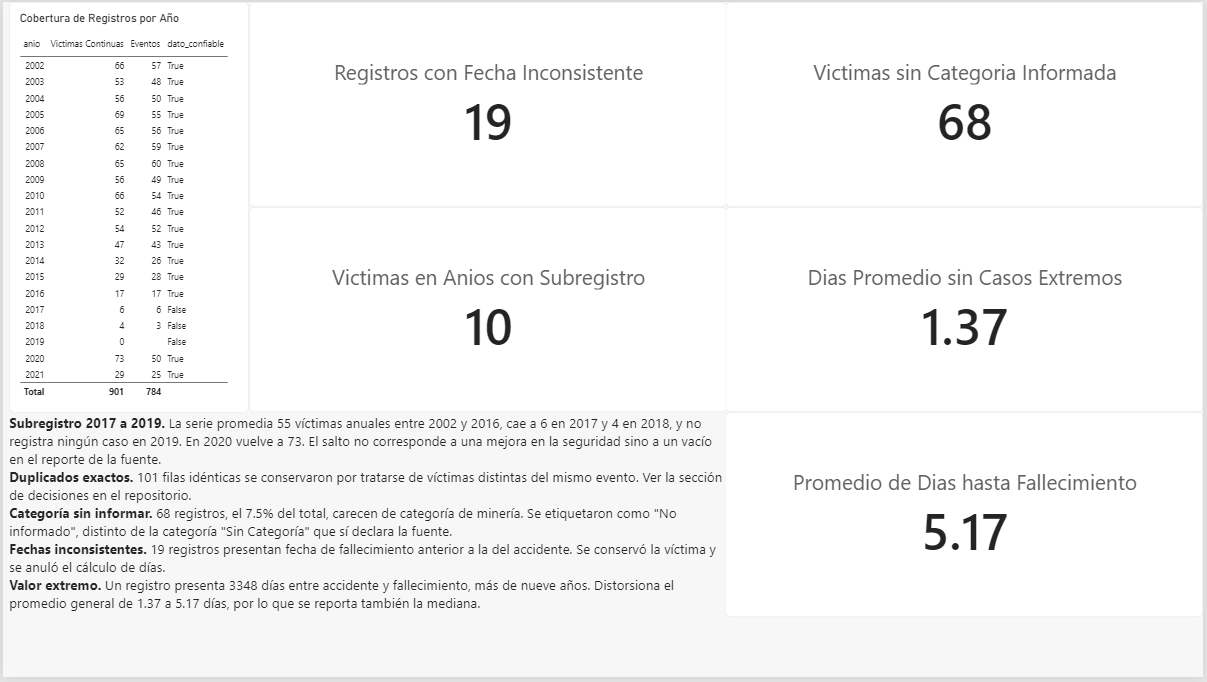

The page's visual inventory and layout, read from the dashboard file:
{"tool":"powerbi","page":{"name":"Calidad del Dato","canvas":[1920,1080],"ordinal":3},"visuals":[{"type":"tableEx","title":"Cobertura de Registros por Año","fields":{"Values":["dim_tiempo.anio","fact_accidente.Victimas Continuas","fact_accidente.Eventos","dim_tiempo.dato_confiable"]},"box":[10,0,383.3,656.7],"z":0},{"type":"cardVisual","fields":{"Data":["fact_accidente.Registros con Fecha Inconsistente"]},"box":[394,0,764,328],"z":1000},{"type":"cardVisual","fields":{"Data":["fact_accidente.Victimas en Anios con Subregistro"]},"box":[394,328,764,328],"z":2000},{"type":"cardVisual","fields":{"Data":["fact_accidente.Victimas sin Categoria Informada"]},"box":[1156,0,764,328],"z":3000},{"type":"cardVisual","fields":{"Data":["fact_accidente.Dias Promedio sin Casos Extremos"]},"box":[1156,328,764,328],"z":4000},{"type":"cardVisual","fields":{"Data":["Avg(fact_accidente.dias_hasta_fallecimiento)"]},"box":[1156,656,764,328],"z":5000},{"type":"textbox","box":[10,658,1146,326],"z":6000}]}

Visuals, with their boxes in screenshot pixels (x1, y1, x2, y2), scaled from the page's 1920x1080 canvas onto the 1207x682 screenshot:
"Cobertura de Registros por Año" tableEx: l=6, t=0, r=247, b=415
cardVisual - fact_accidente.Registros con Fecha Inconsistente: l=248, t=0, r=728, b=207
cardVisual - fact_accidente.Victimas en Anios con Subregistro: l=248, t=207, r=728, b=414
cardVisual - fact_accidente.Victimas sin Categoria Informada: l=727, t=0, r=1206, b=207
cardVisual - fact_accidente.Dias Promedio sin Casos Extremos: l=727, t=207, r=1206, b=414
cardVisual - Avg(fact_accidente.dias_hasta_fallecimiento): l=727, t=414, r=1206, b=621
textbox: l=6, t=416, r=727, b=621
